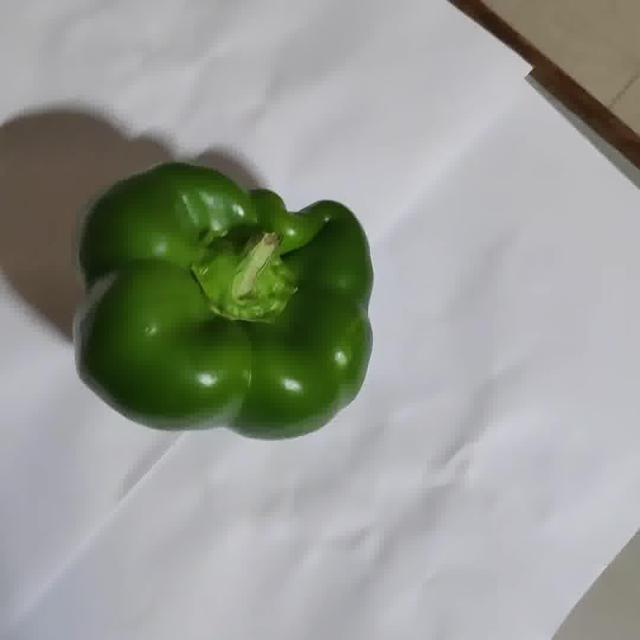Bell Pepper: (74, 162, 373, 439)
